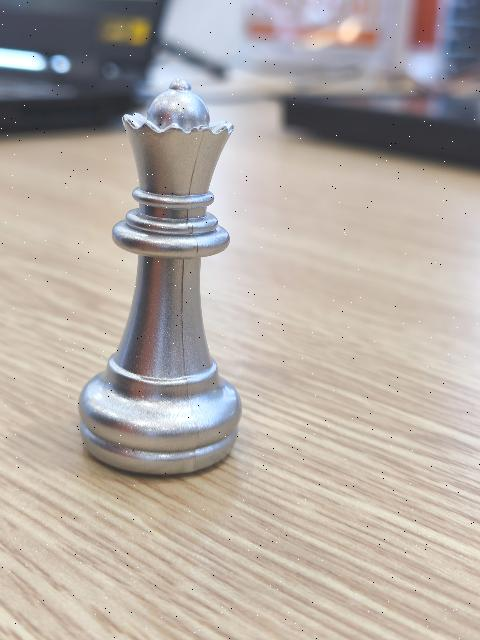white_queen: (81, 78, 239, 473)
